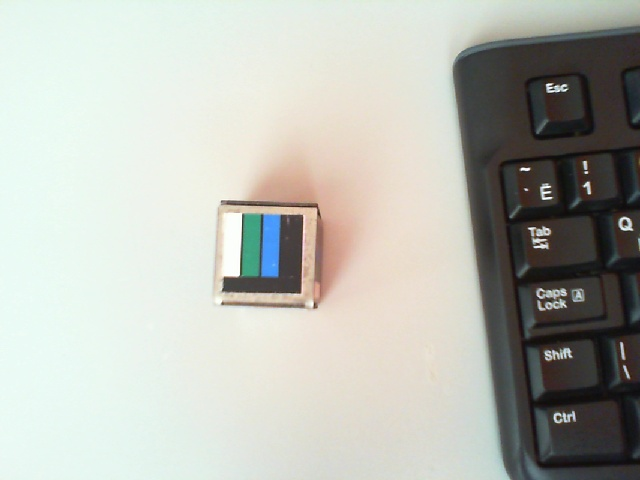square: (224, 212, 302, 293)
